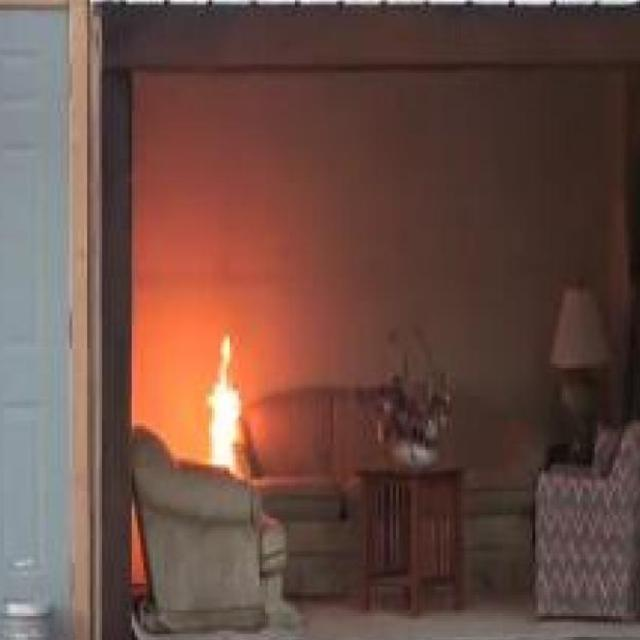smoke: (198, 328, 248, 479)
